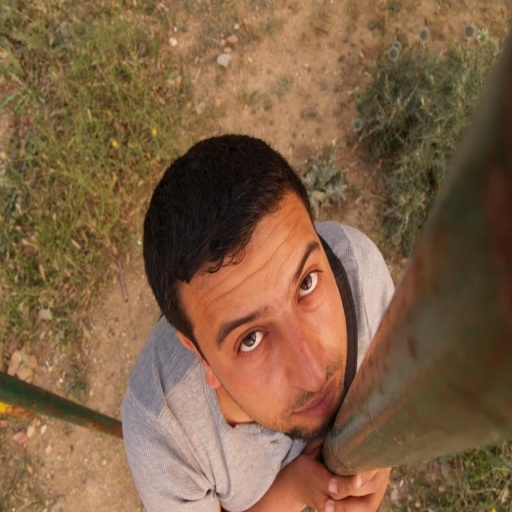hand: (287, 430, 335, 510), (323, 466, 392, 510)
